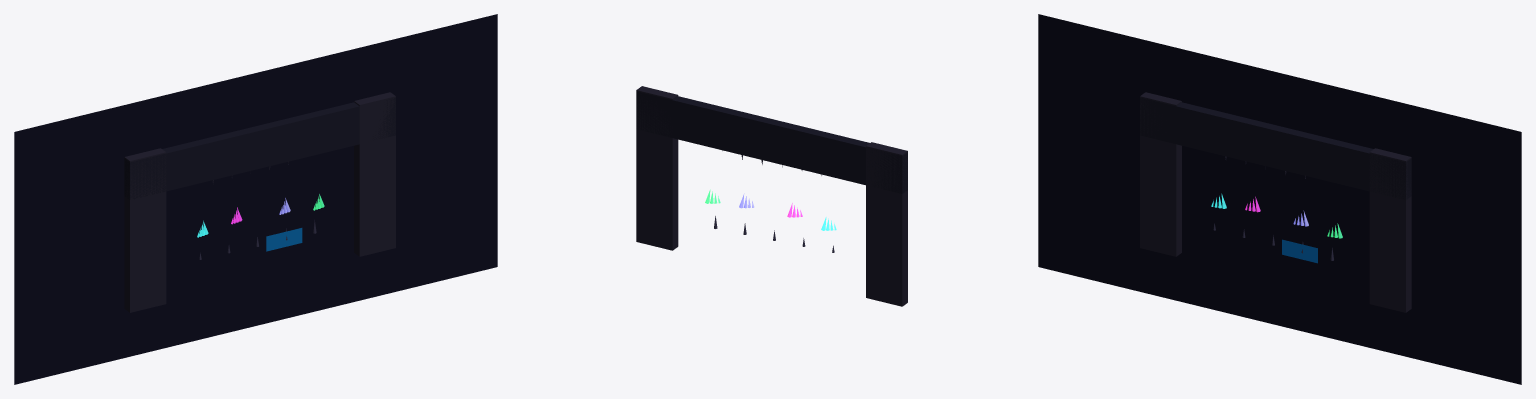
Rendered from crystalCavern.glb.
The picture shows the model from 3 angles, left to right: view 1: azimuth 30°, elevation 25°; view 2: azimuth 150°, elevation 25°; view 3: azimuth 330°, elevation 25°; orthographic projection.
Parts seen in each view (by area): view 1: background, object 2, object 4, object 3, object 32; view 2: object 2, object 3, object 4; view 3: background, object 2, object 4, object 3, object 32.
Part boxes in pixels (x1=…): background: x1=14, y1=14, x2=497, y2=384; object 2: x1=124, y1=97, x2=395, y2=199; object 4: x1=354, y1=92, x2=395, y2=256; object 3: x1=124, y1=148, x2=166, y2=312; object 32: x1=266, y1=228, x2=302, y2=251; object 2: x1=636, y1=91, x2=907, y2=193; object 3: x1=866, y1=142, x2=907, y2=306; object 4: x1=636, y1=86, x2=678, y2=250; background: x1=1038, y1=14, x2=1521, y2=384; object 2: x1=1140, y1=97, x2=1411, y2=199; object 4: x1=1369, y1=148, x2=1411, y2=312; object 3: x1=1140, y1=92, x2=1181, y2=256; object 32: x1=1282, y1=239, x2=1317, y2=263.
Size of the model in its own units: 4000 by 2000 by 100.
